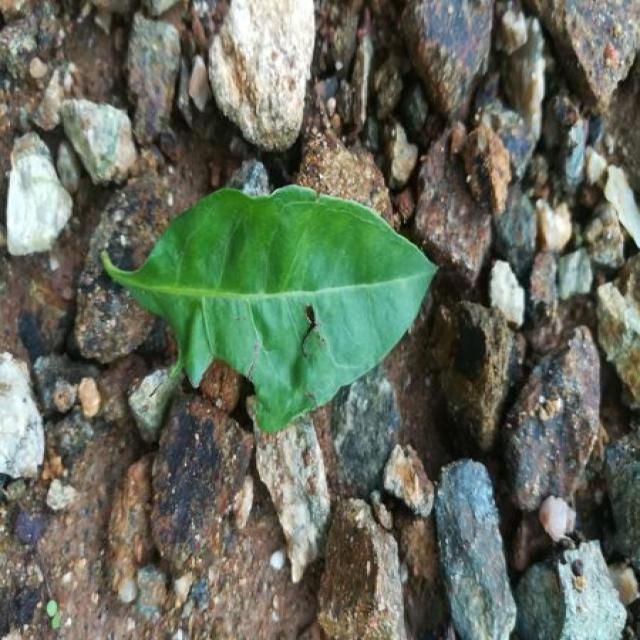henna: (103, 185, 435, 431)
